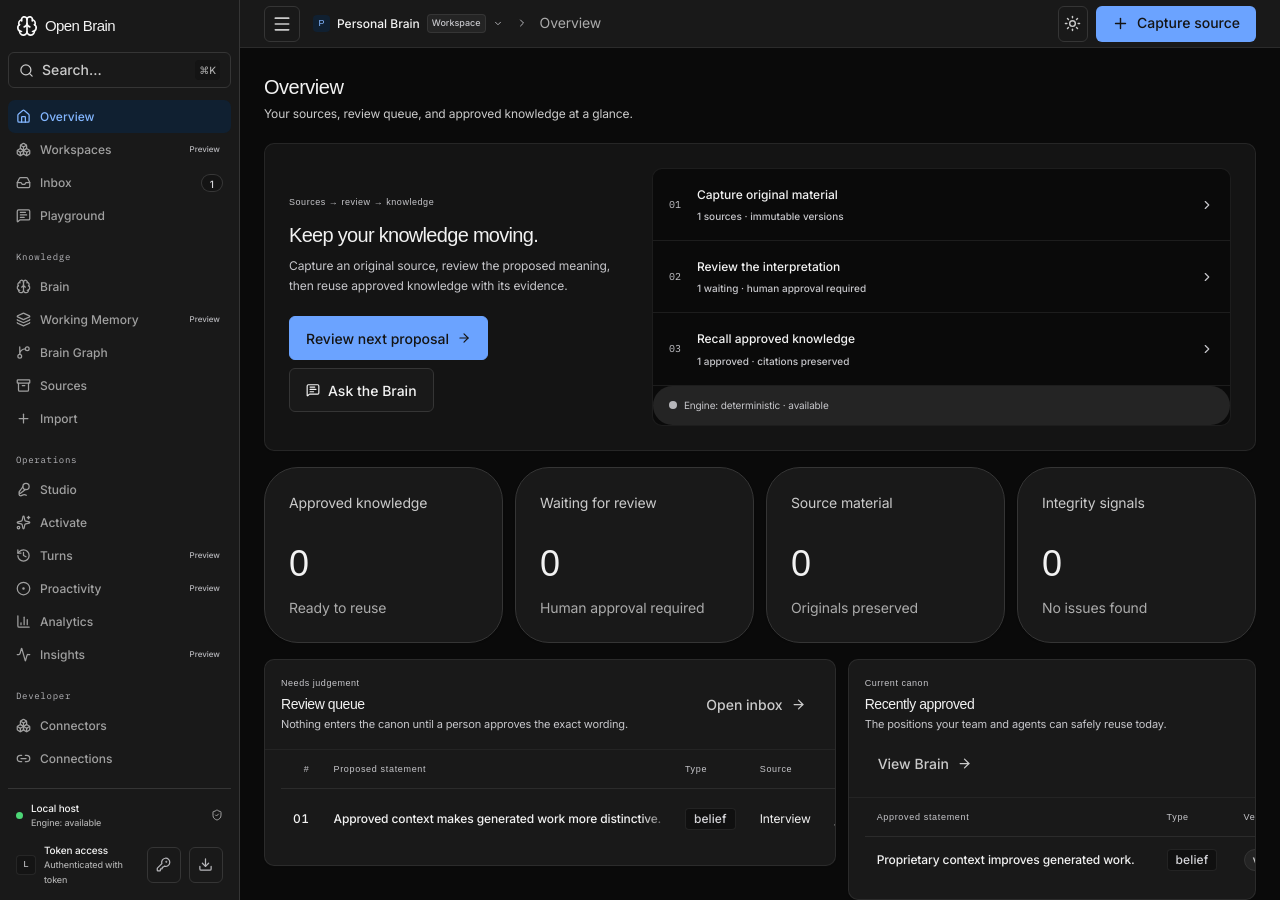
Scenario: App › loads the dashboard and navigates to approved knowledge
This screenshot has width=1280, height=900.
expect the heading "Overview" is shown: met, box [264,76,343,98]
Step 1. Click the button "Brain" → (120, 286), box [8,270,231,303]
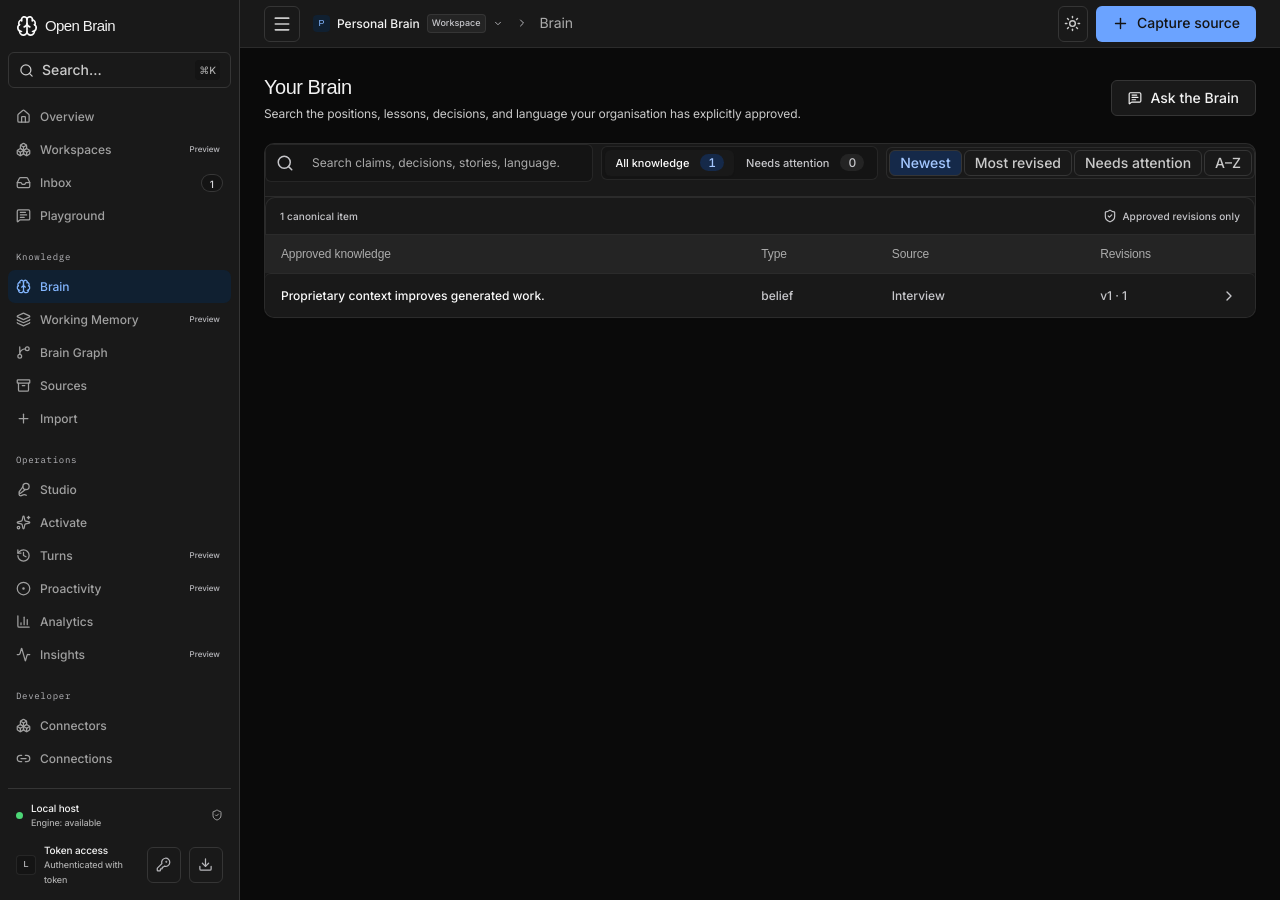
expect the heading "Your Brain" is shown: met, box [264,76,352,98]
Step 2. Click the button "Proprietary context improves generated work." → (760, 295), box [265,273,1255,317]
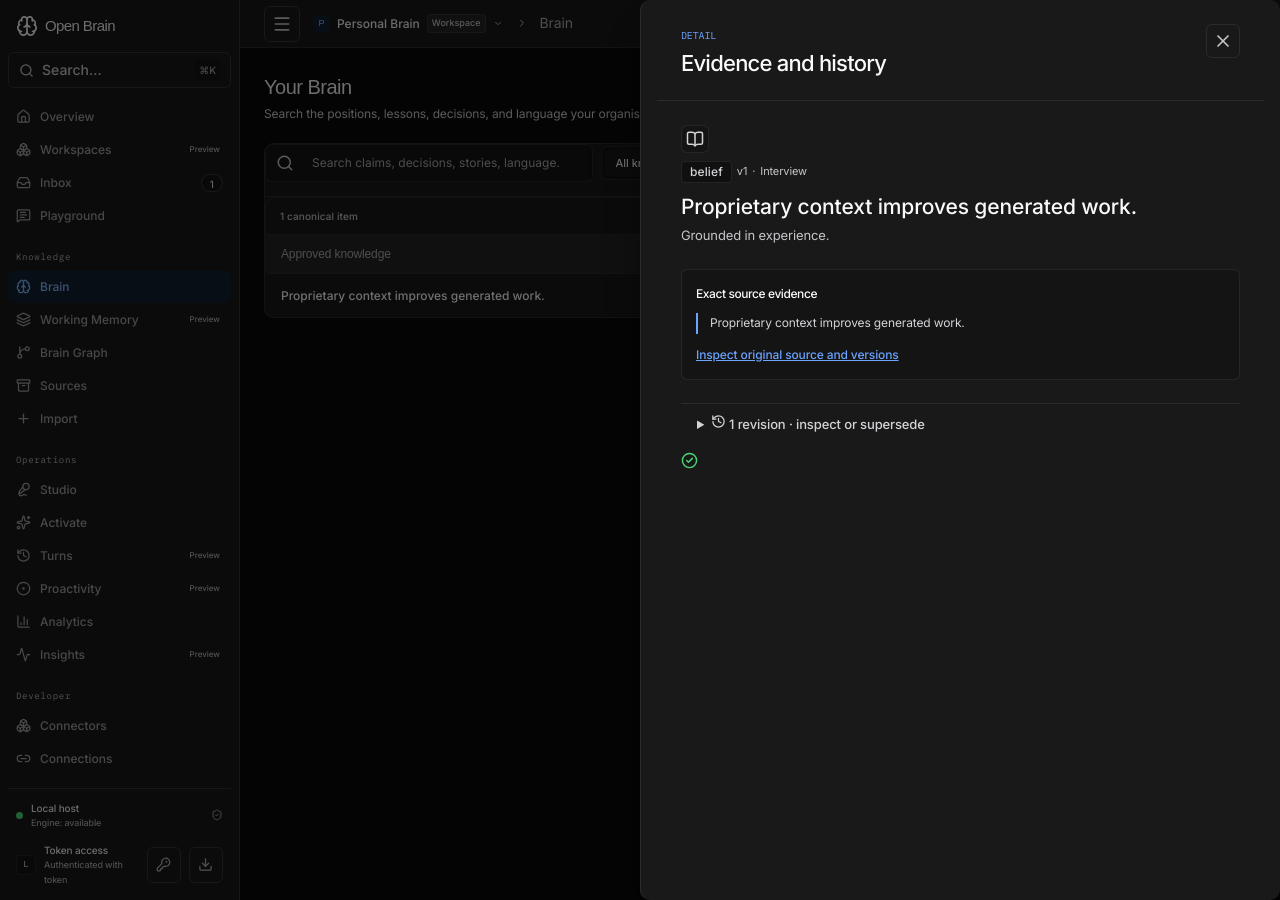
expect the heading "Proprietary context improves generated work." is shown: met, box [681,194,1137,219]
